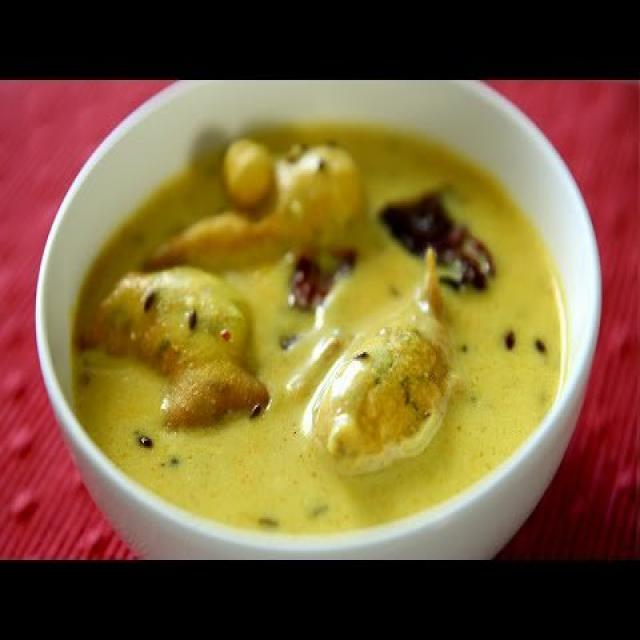Kadhi Pakora: (61, 124, 560, 530)
